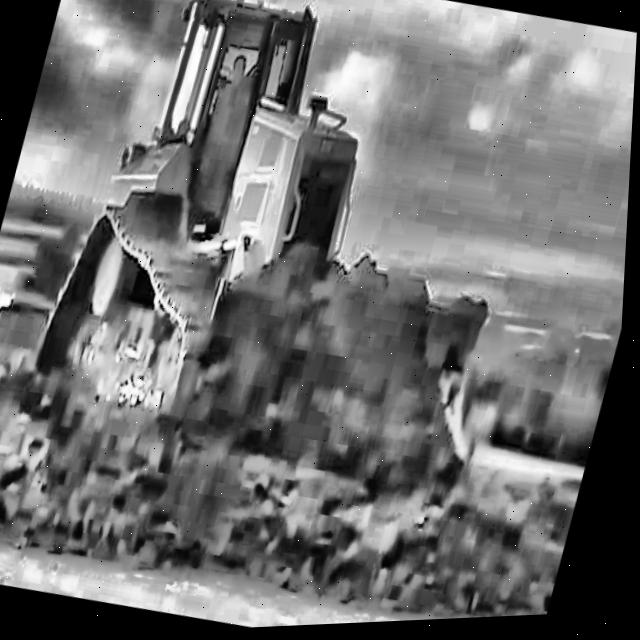buldozerpayloadergrader: (10, 0, 571, 520)
